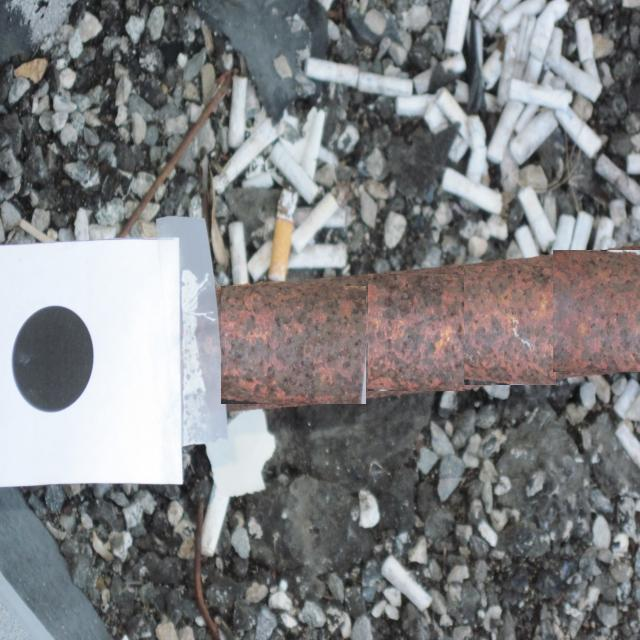Corrosion: (220, 252, 640, 408), (220, 278, 368, 408)
